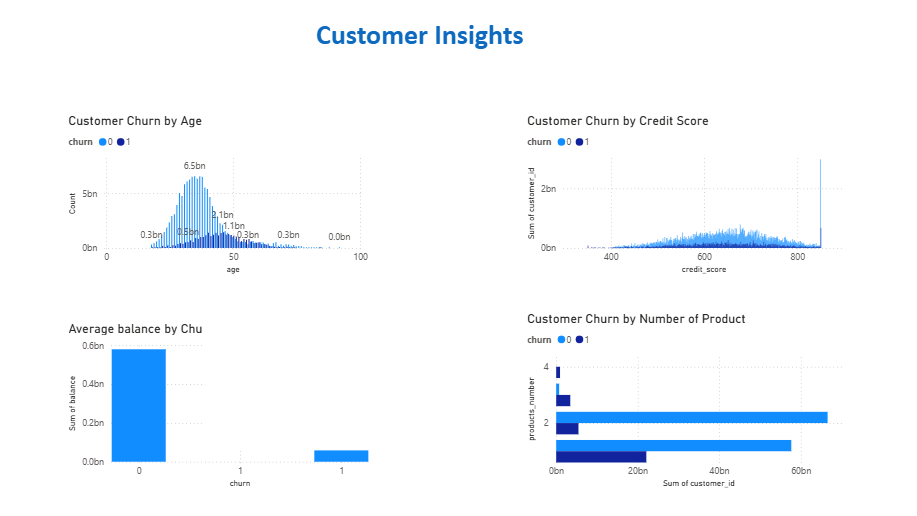

This screenshot's page, from the dashboard's own definition file:
{"tool":"powerbi","page":{"name":"Customer Insights","canvas":[1280,720],"ordinal":1},"visuals":[{"type":"clusteredColumnChart","title":" Customer Churn by Age","fields":{"Category":["Bank Customer Churn Prediction.age"],"Y":["Sum(Bank Customer Churn Prediction.customer_id)"],"Series":["Bank Customer Churn Prediction.churn"]},"box":[98.3,166.7,410,220],"z":0},{"type":"clusteredColumnChart","title":"Customer Churn by Credit Score ","fields":{"Category":["Bank Customer Churn Prediction.credit_score"],"Y":["Sum(Bank Customer Churn Prediction.customer_id)"],"Series":["Bank Customer Churn Prediction.churn"]},"box":[710,166.7,443.3,220],"z":1000},{"type":"clusteredColumnChart","title":"Average balance by Churn Status","fields":{"Category":["Bank Customer Churn Prediction.churn"],"Y":["Sum(Bank Customer Churn Prediction.balance)"]},"box":[98.3,443.3,410,228.3],"z":2000},{"type":"clusteredBarChart","title":"Customer Churn by Number of Product","fields":{"Category":["Bank Customer Churn Prediction.products_number"],"Y":["Sum(Bank Customer Churn Prediction.customer_id)"],"Series":["Bank Customer Churn Prediction.churn"]},"box":[710,430,443.3,241.7],"z":3000},{"type":"textbox","box":[281,414,226,203],"z":4000},{"type":"textbox","box":[301.7,35,630,68.3],"z":5000}]}

Visuals, with their boxes in screenshot pixels (x1, y1, x2, y2), scaled from the page's 1280x720 canvas onto the 917x516 screenshot:
" Customer Churn by Age" clusteredColumnChart: region(70, 119, 364, 277)
"Customer Churn by Credit Score " clusteredColumnChart: region(509, 119, 826, 277)
"Average balance by Churn Status" clusteredColumnChart: region(70, 318, 364, 481)
"Customer Churn by Number of Product" clusteredBarChart: region(509, 308, 826, 481)
textbox: region(201, 297, 363, 442)
textbox: region(216, 25, 667, 74)
